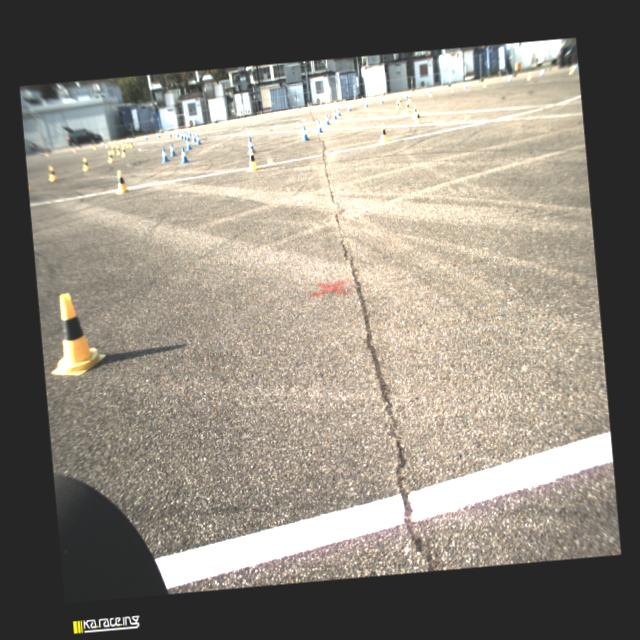blue_cone: (178, 146, 189, 163), (300, 125, 310, 141), (160, 146, 169, 162), (168, 142, 176, 156), (314, 119, 322, 133), (184, 138, 192, 150), (246, 136, 252, 148), (323, 113, 329, 125), (195, 134, 202, 144), (346, 102, 352, 111), (331, 109, 336, 119), (191, 132, 196, 142), (336, 106, 341, 115), (379, 96, 384, 104), (363, 98, 368, 106), (426, 86, 430, 95), (179, 130, 183, 138), (182, 132, 186, 140), (187, 128, 191, 136), (463, 81, 467, 88), (174, 130, 178, 137), (404, 92, 407, 98)
yellow_cone: (44, 289, 108, 378), (112, 169, 129, 194), (244, 148, 258, 172), (378, 122, 389, 143), (46, 165, 56, 182), (80, 156, 90, 172), (412, 107, 420, 125), (106, 150, 114, 162), (411, 104, 417, 118), (403, 100, 409, 112), (394, 99, 400, 110), (120, 146, 126, 156), (116, 144, 120, 154), (407, 93, 411, 102), (129, 139, 133, 148), (398, 97, 401, 105)
